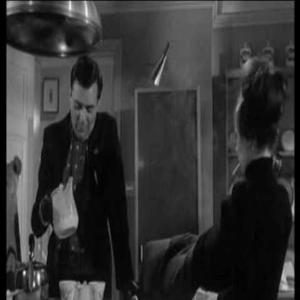cigarette: (231, 162, 242, 176)
